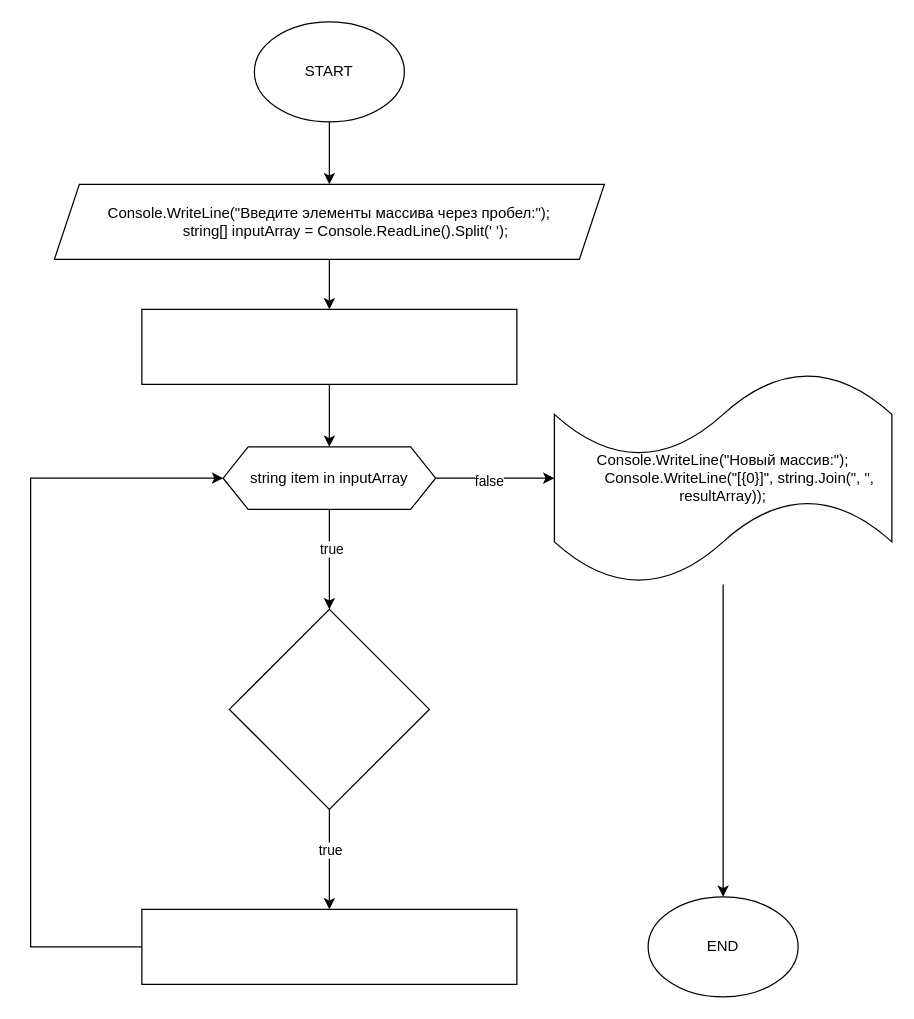
This 914x1019 diagram has some shape labels left out. The shapes that lost their labels are listed below. From the top down, each one's box as (x1, y1, x2, y2) in pixels, then its label:
(141, 308, 517, 384): string[] resultArray = new string[inputArray.Length]; int count = 0;
(228, 608, 429, 809): item.Length <= 3
(141, 908, 517, 984): resultArray[count] = item; count++;
